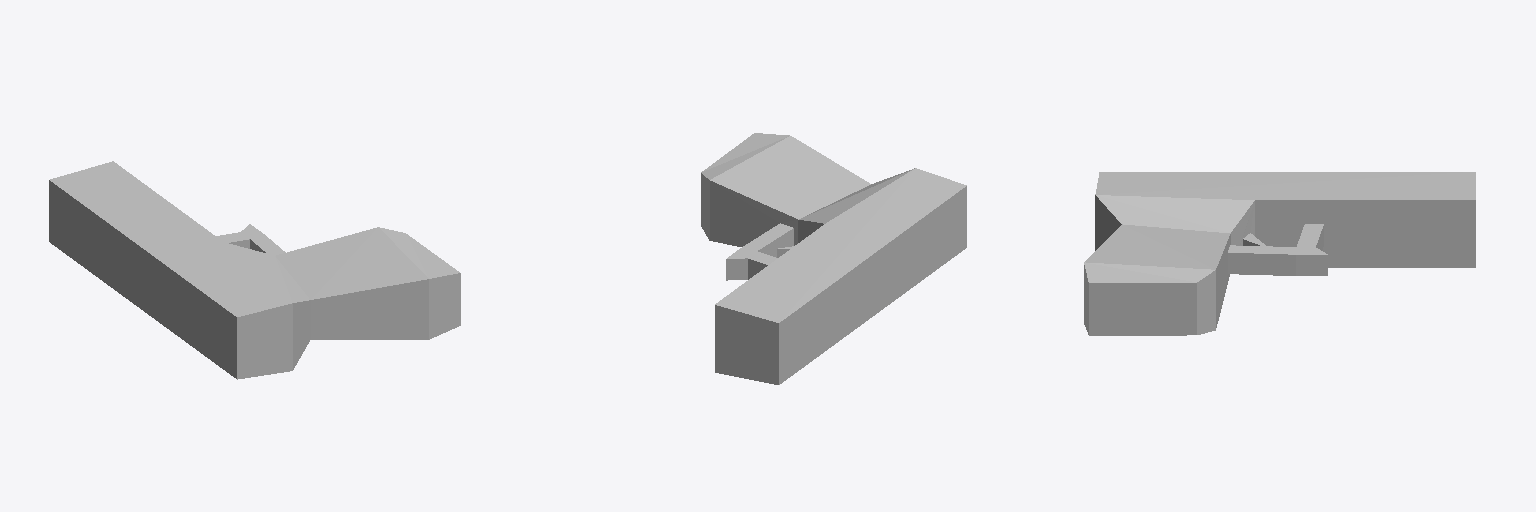
The model's file is 9mm pistol.obj.
3 renders of one model, left to right at view 1: azimuth 30°, elevation 25°; view 2: azimuth 150°, elevation 25°; view 3: azimuth 270°, elevation 25°, orthographic.
Visible parts, largest first — view 1: wrld_glock_wrld_glock_mesh; view 2: wrld_glock_wrld_glock_mesh; view 3: wrld_glock_wrld_glock_mesh.
Part boxes in pixels (x1,y1,x2,y2): wrld_glock_wrld_glock_mesh: (49,161,460,379); wrld_glock_wrld_glock_mesh: (701,133,966,384); wrld_glock_wrld_glock_mesh: (1084,172,1475,335).
Bounding box in the file's own units: 0.1806 × 0.0537 × 0.2812.